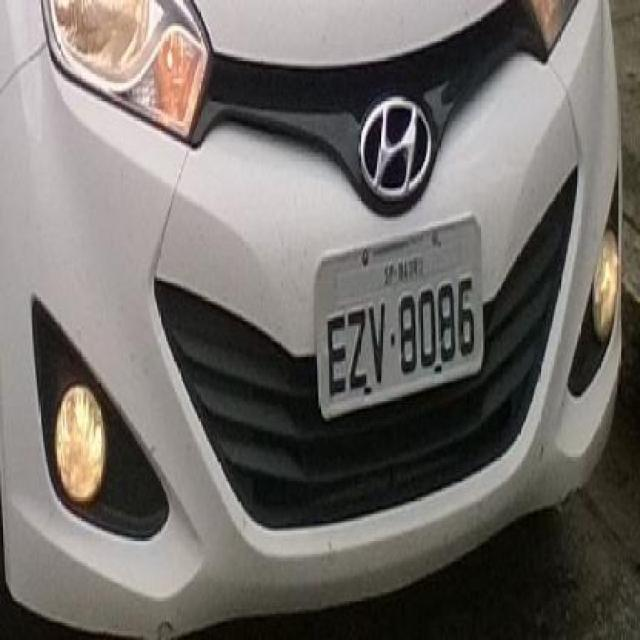old_plate: (307, 210, 489, 428)
